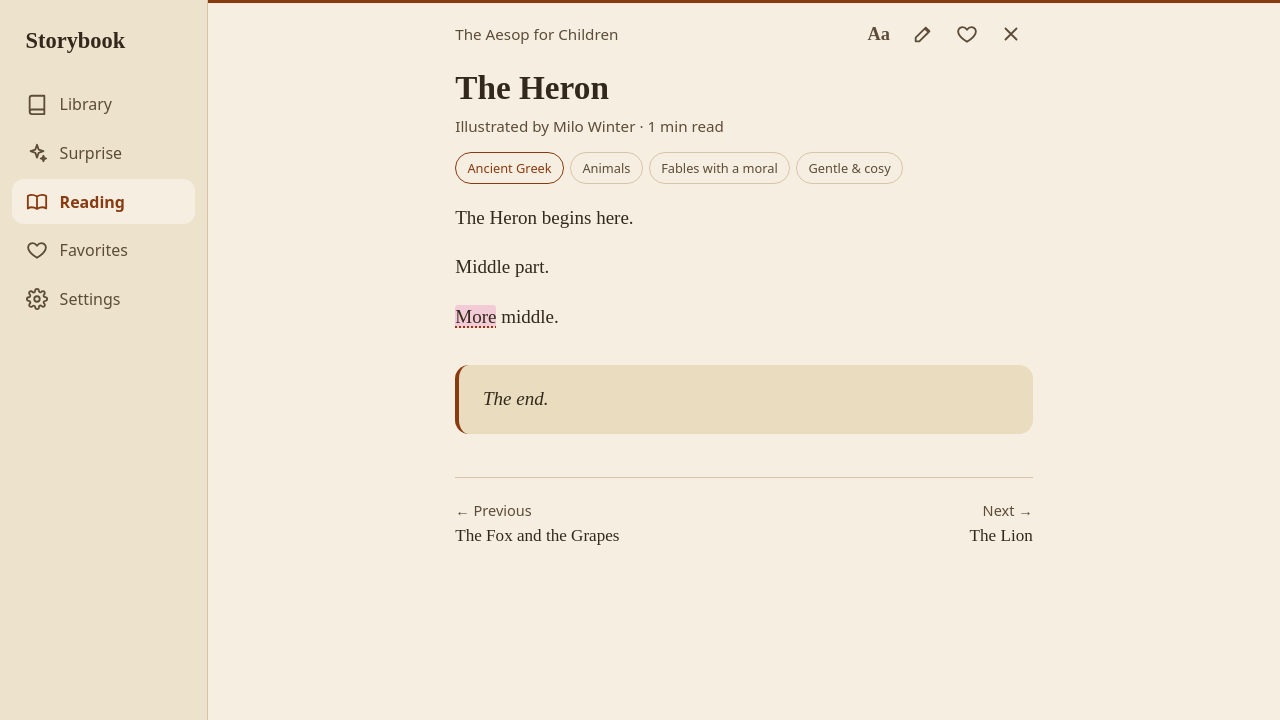
Test: highlights and notes › keeps a story note and lists highlights in the Notes panel, jumping to one
The width and height of the screenshot is (1280, 720).
Expected: the text "The Heron begins here." is shown, [455,207,634,228]
Click the button named "Notes" at (923, 34), box [901,12,945,56]
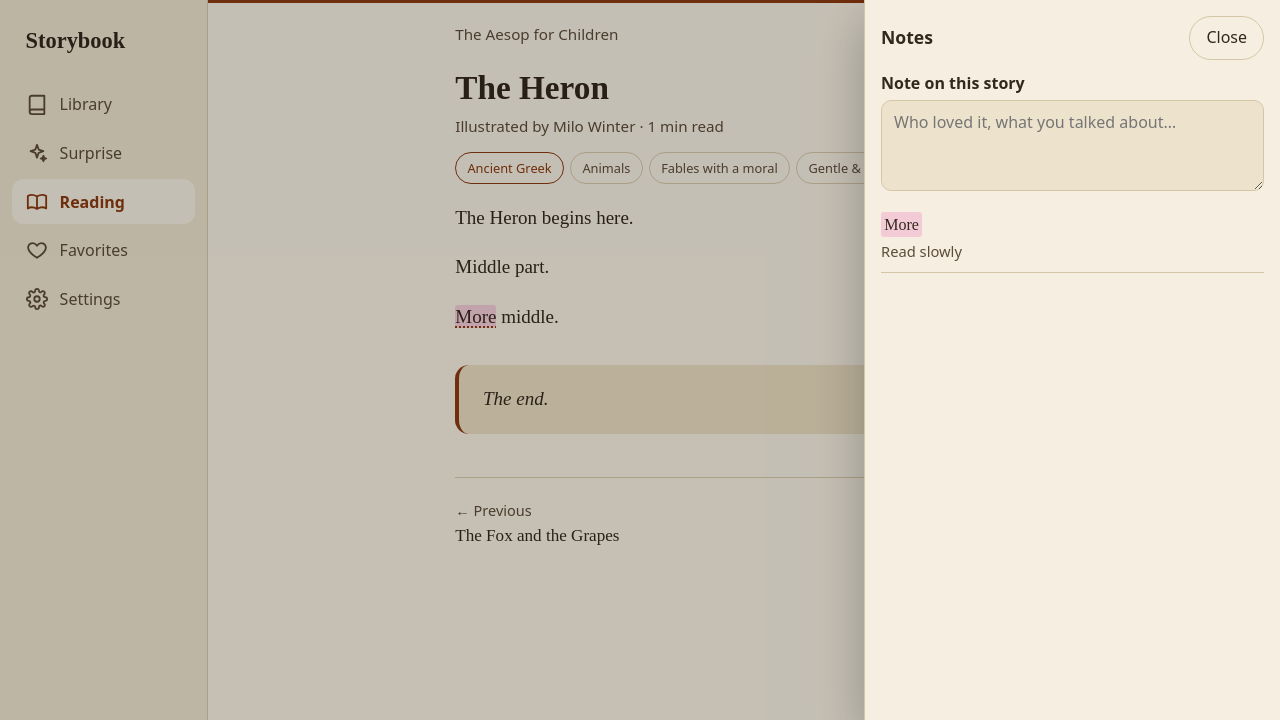
Type "Both kids loved it" into the text box labelled "Note on this story" at (1072, 145), box [881,100,1264,191]
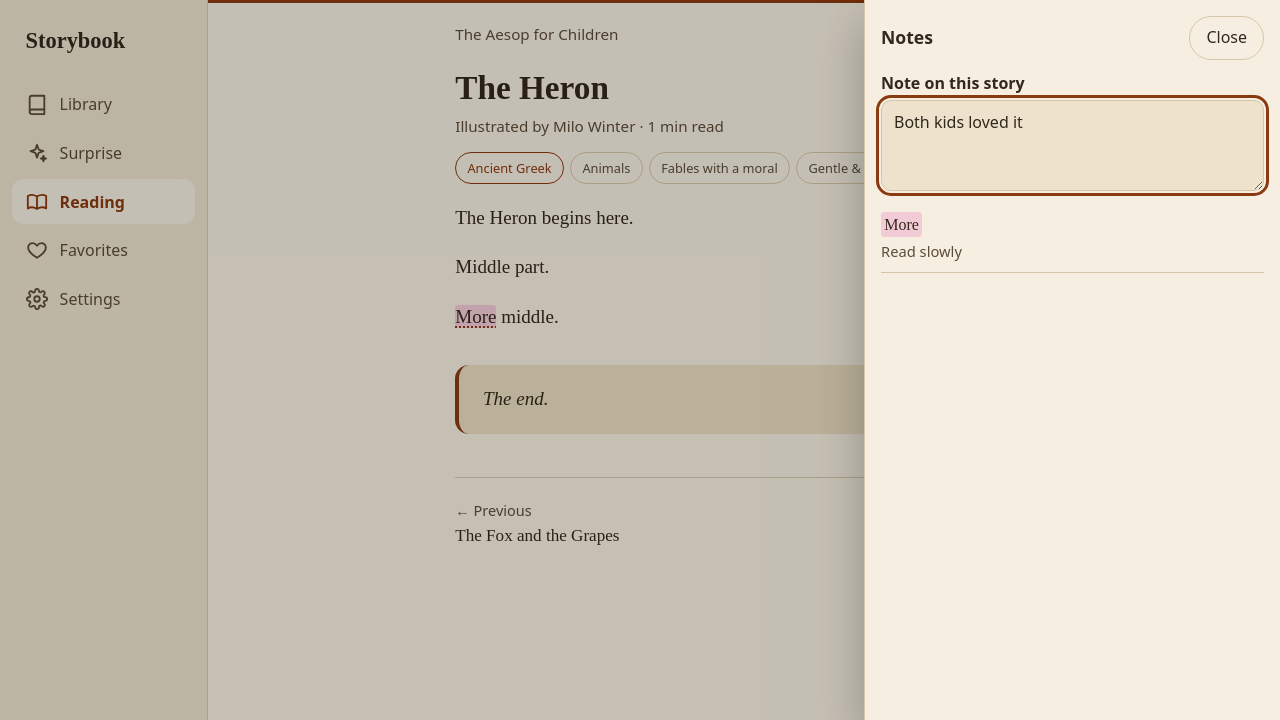
Press Tab
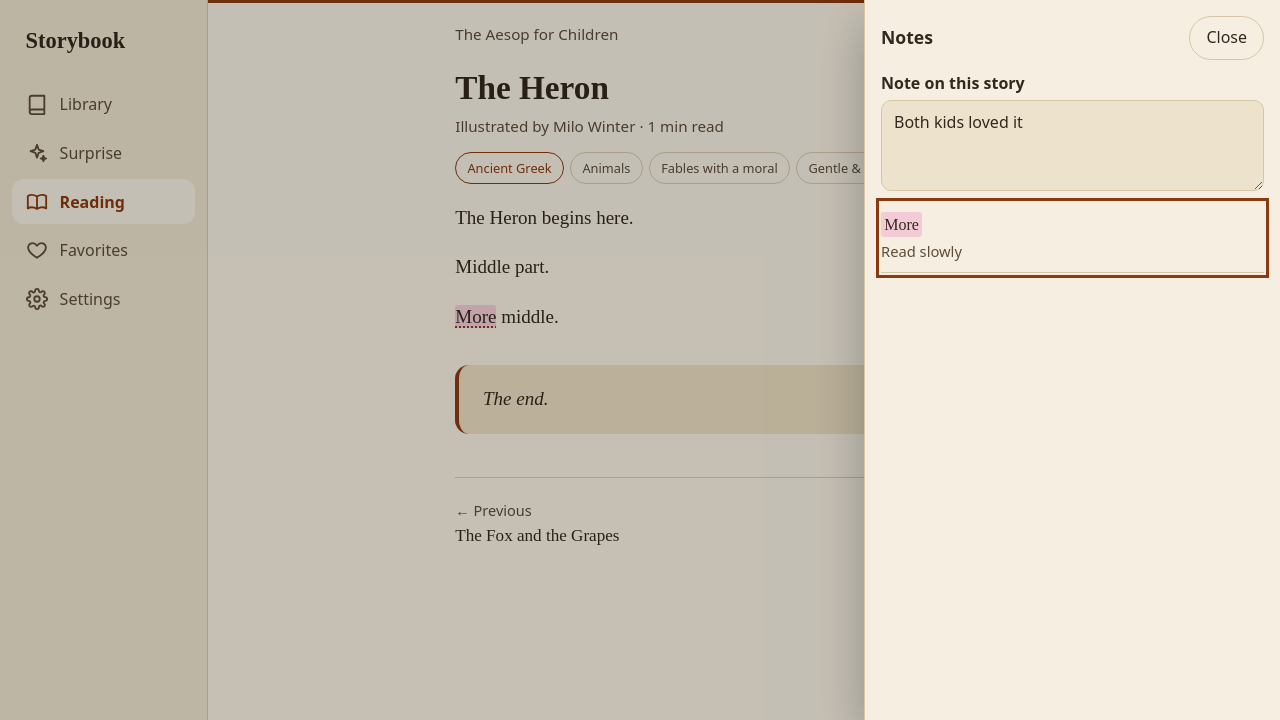
Expected: the button "More Read slowly" is shown
Click the button "More Read slowly" at (902, 225), box [881,203,1264,273]
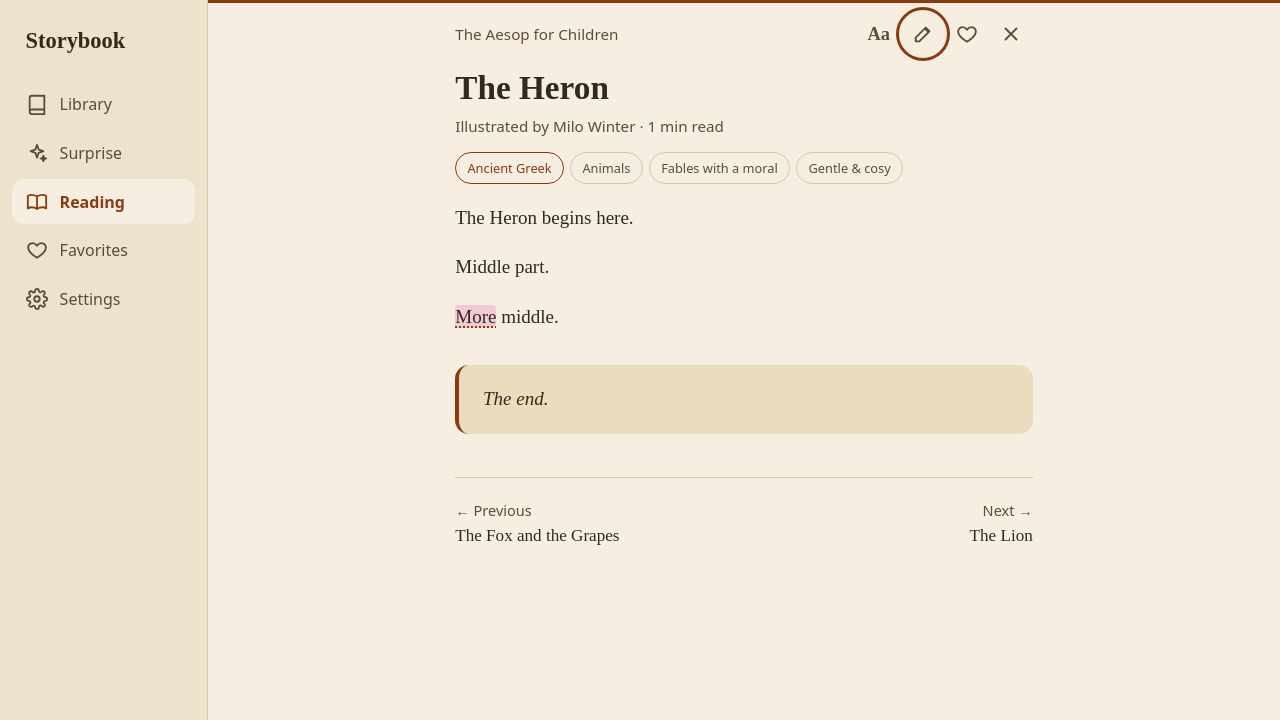
Expected: the heading "Notes" is gone
